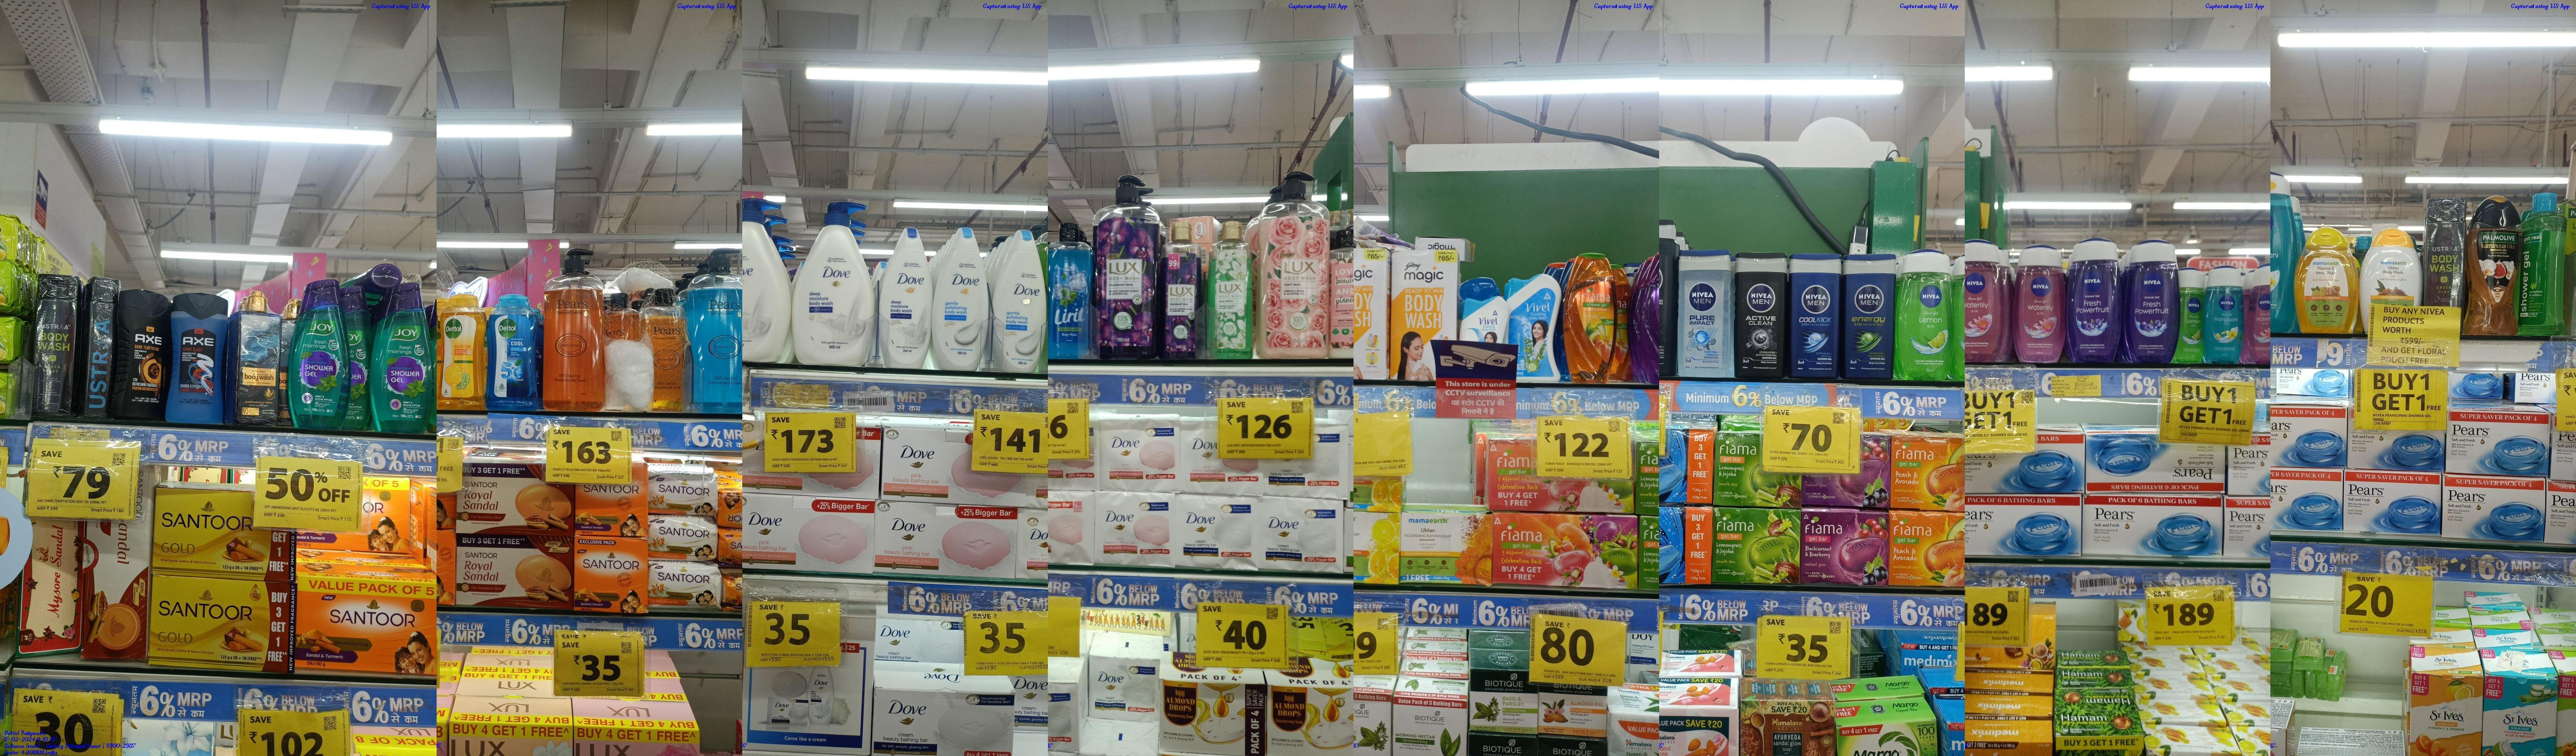Dettol_Bodywash_Cool: (490, 293, 539, 399)
Dettol_Bodywash_Refresh: (442, 288, 483, 411)
Dove_Deep_Moisture_Body_Wash_250ML: (877, 228, 933, 365)
Dove_Gentle_Exfoliating_Body_Wash_250ML: (991, 230, 1045, 370), (935, 227, 987, 368)
Fiama_Shower_Gel_Peach_and_Avocado_250ML: (1567, 251, 1612, 383)
Joy_Shower_Gel_Mint_and_Eucalyptus_250ML: (287, 283, 343, 427), (375, 286, 430, 431)
Liril_Cooling_Mint_Body_Wash_250ML: (1048, 220, 1091, 360)
Lux_Black_Orchid_Scent_and_Juniper_Oil_Body_Wash_245ML: (1161, 215, 1201, 360)
Lux_Body_Wash_Skin_Detox_Freesia_Scent_and_Alove_Vera_245ML: (1209, 217, 1252, 358)
Nivea_Shower_Gel_Fresh_Powerfruit_250ML: (2070, 238, 2121, 362), (2126, 238, 2177, 362)
Nivea_Shower_Gel_Lemon_and_Oil_250ML: (1896, 251, 1952, 381)
Nivea_Shower_Gel_Waterlily_and_Oil_250ML: (2012, 243, 2067, 365), (1965, 238, 2001, 360)
Palmolive_Luminous_Oils_With_White_Orchid_Shower_Gel_250ML: (2463, 194, 2522, 339)
